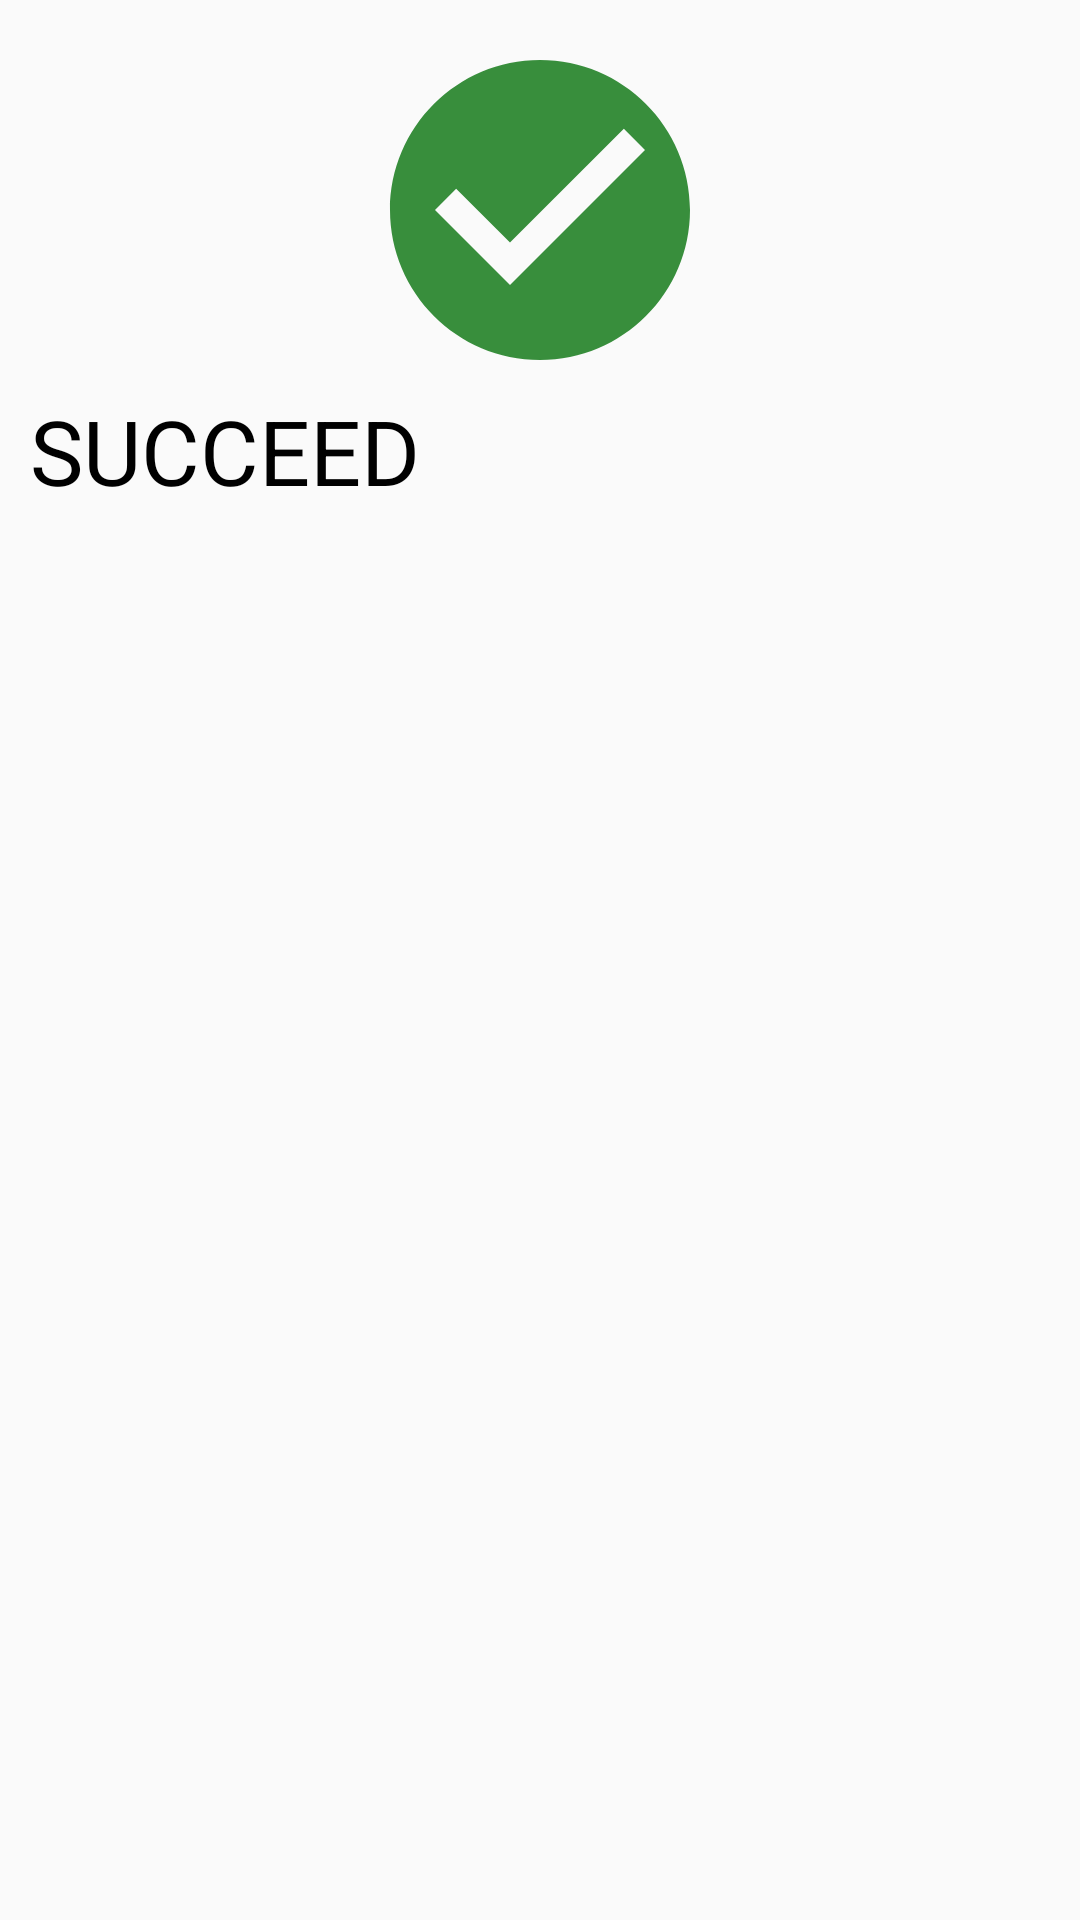

Where icons sit on this 1080px×1920px app screen, as (x1, y1, x2, y2):
check circle: (390, 60, 690, 360)
